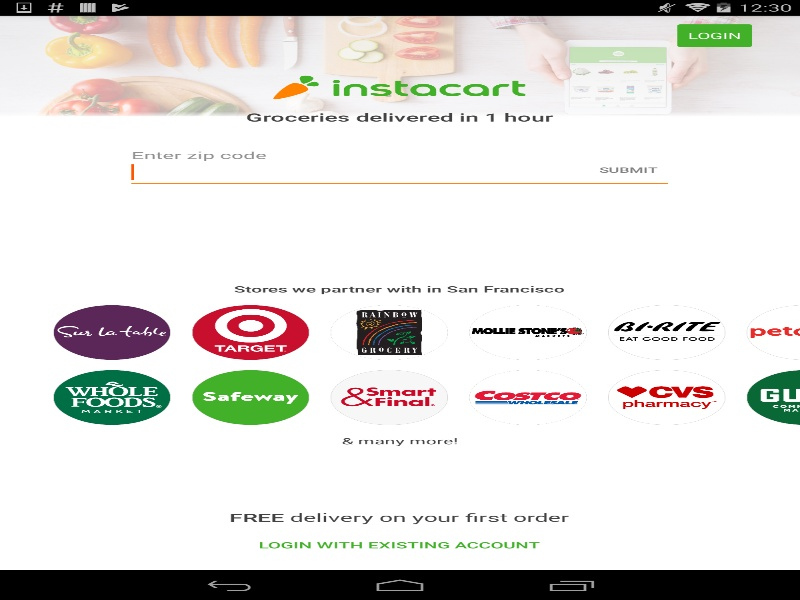Button: (242, 530, 556, 560), (672, 20, 757, 50), (588, 156, 668, 183)
Input: (131, 158, 668, 186)
